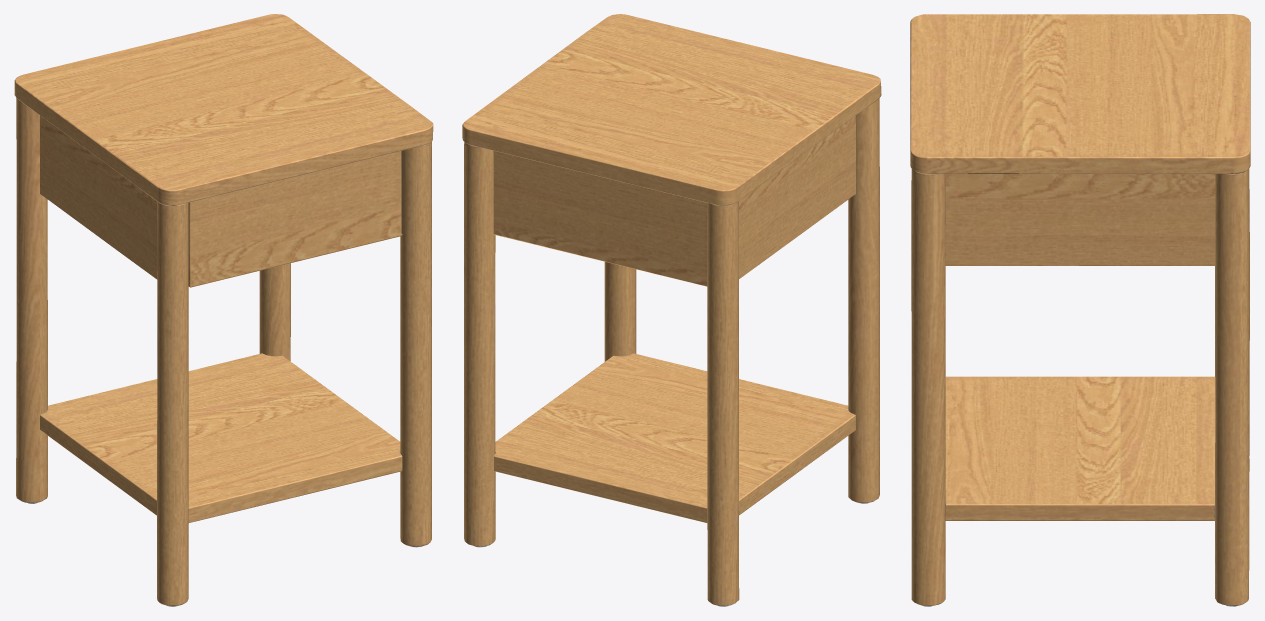
Rendered from LB-BR-NIGHTSTAND-02.glb.
The picture shows the model from 3 angles, left to right: view 1: azimuth 30°, elevation 25°; view 2: azimuth 150°, elevation 25°; view 3: azimuth 270°, elevation 25°; orthographic projection. The views are drawn at different scales.
Parts seen in each view (by area): view 1: ASY_ART_80489322_S01_NV01; view 2: ASY_ART_80489322_S01_NV01; view 3: ASY_ART_80489322_S01_NV01.
Boxes of the visible parts, x1,y1,x2,y2 form: ASY_ART_80489322_S01_NV01: (14, 14, 433, 606); ASY_ART_80489322_S01_NV01: (462, 14, 881, 606); ASY_ART_80489322_S01_NV01: (910, 14, 1250, 606).
Size of the model in its own units: 0.401 by 0.5901 by 0.401.
Materials: 1 (1 with a texture image).
